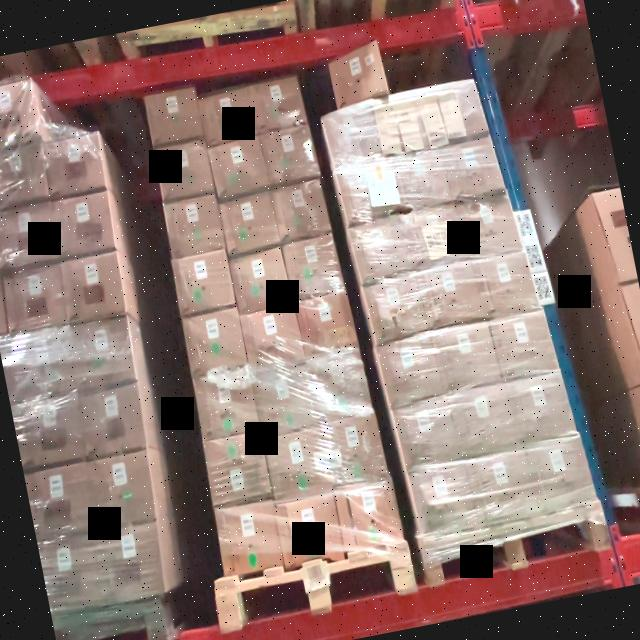box: (322, 415, 389, 494), (203, 434, 270, 508), (216, 504, 282, 576), (264, 425, 328, 498), (276, 492, 342, 562), (193, 374, 259, 442), (468, 454, 532, 524), (306, 354, 370, 422), (456, 386, 517, 456), (436, 326, 500, 392), (530, 442, 592, 510), (377, 338, 437, 408), (184, 310, 246, 376), (424, 80, 486, 146), (172, 252, 235, 316), (337, 486, 402, 548), (511, 376, 572, 442), (162, 197, 225, 260), (338, 164, 396, 230), (242, 307, 302, 370), (410, 469, 470, 532), (144, 84, 203, 148), (255, 369, 314, 433), (364, 278, 423, 342), (154, 141, 214, 203), (198, 86, 258, 148), (298, 296, 357, 359), (324, 104, 382, 168), (374, 92, 428, 160), (396, 406, 454, 469), (283, 236, 342, 297), (220, 196, 279, 256), (496, 317, 555, 377), (231, 253, 292, 311), (421, 264, 478, 325), (448, 140, 504, 202), (480, 256, 537, 316), (392, 154, 448, 214), (210, 140, 267, 197), (406, 210, 462, 268), (350, 223, 405, 282), (466, 200, 520, 260), (272, 183, 327, 241), (332, 51, 388, 105), (262, 129, 316, 183), (252, 79, 305, 132)
